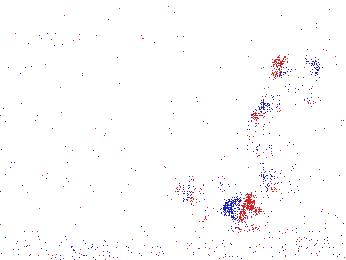flame jellyfish: (249, 53, 326, 126), (174, 173, 261, 224), (236, 114, 289, 191)
